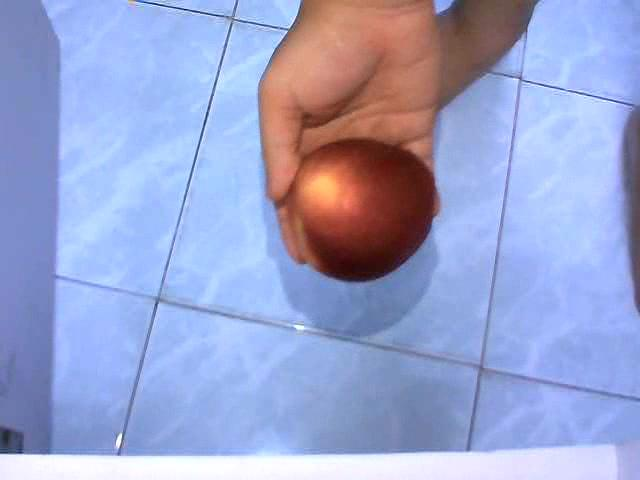apple: (286, 137, 439, 282)
